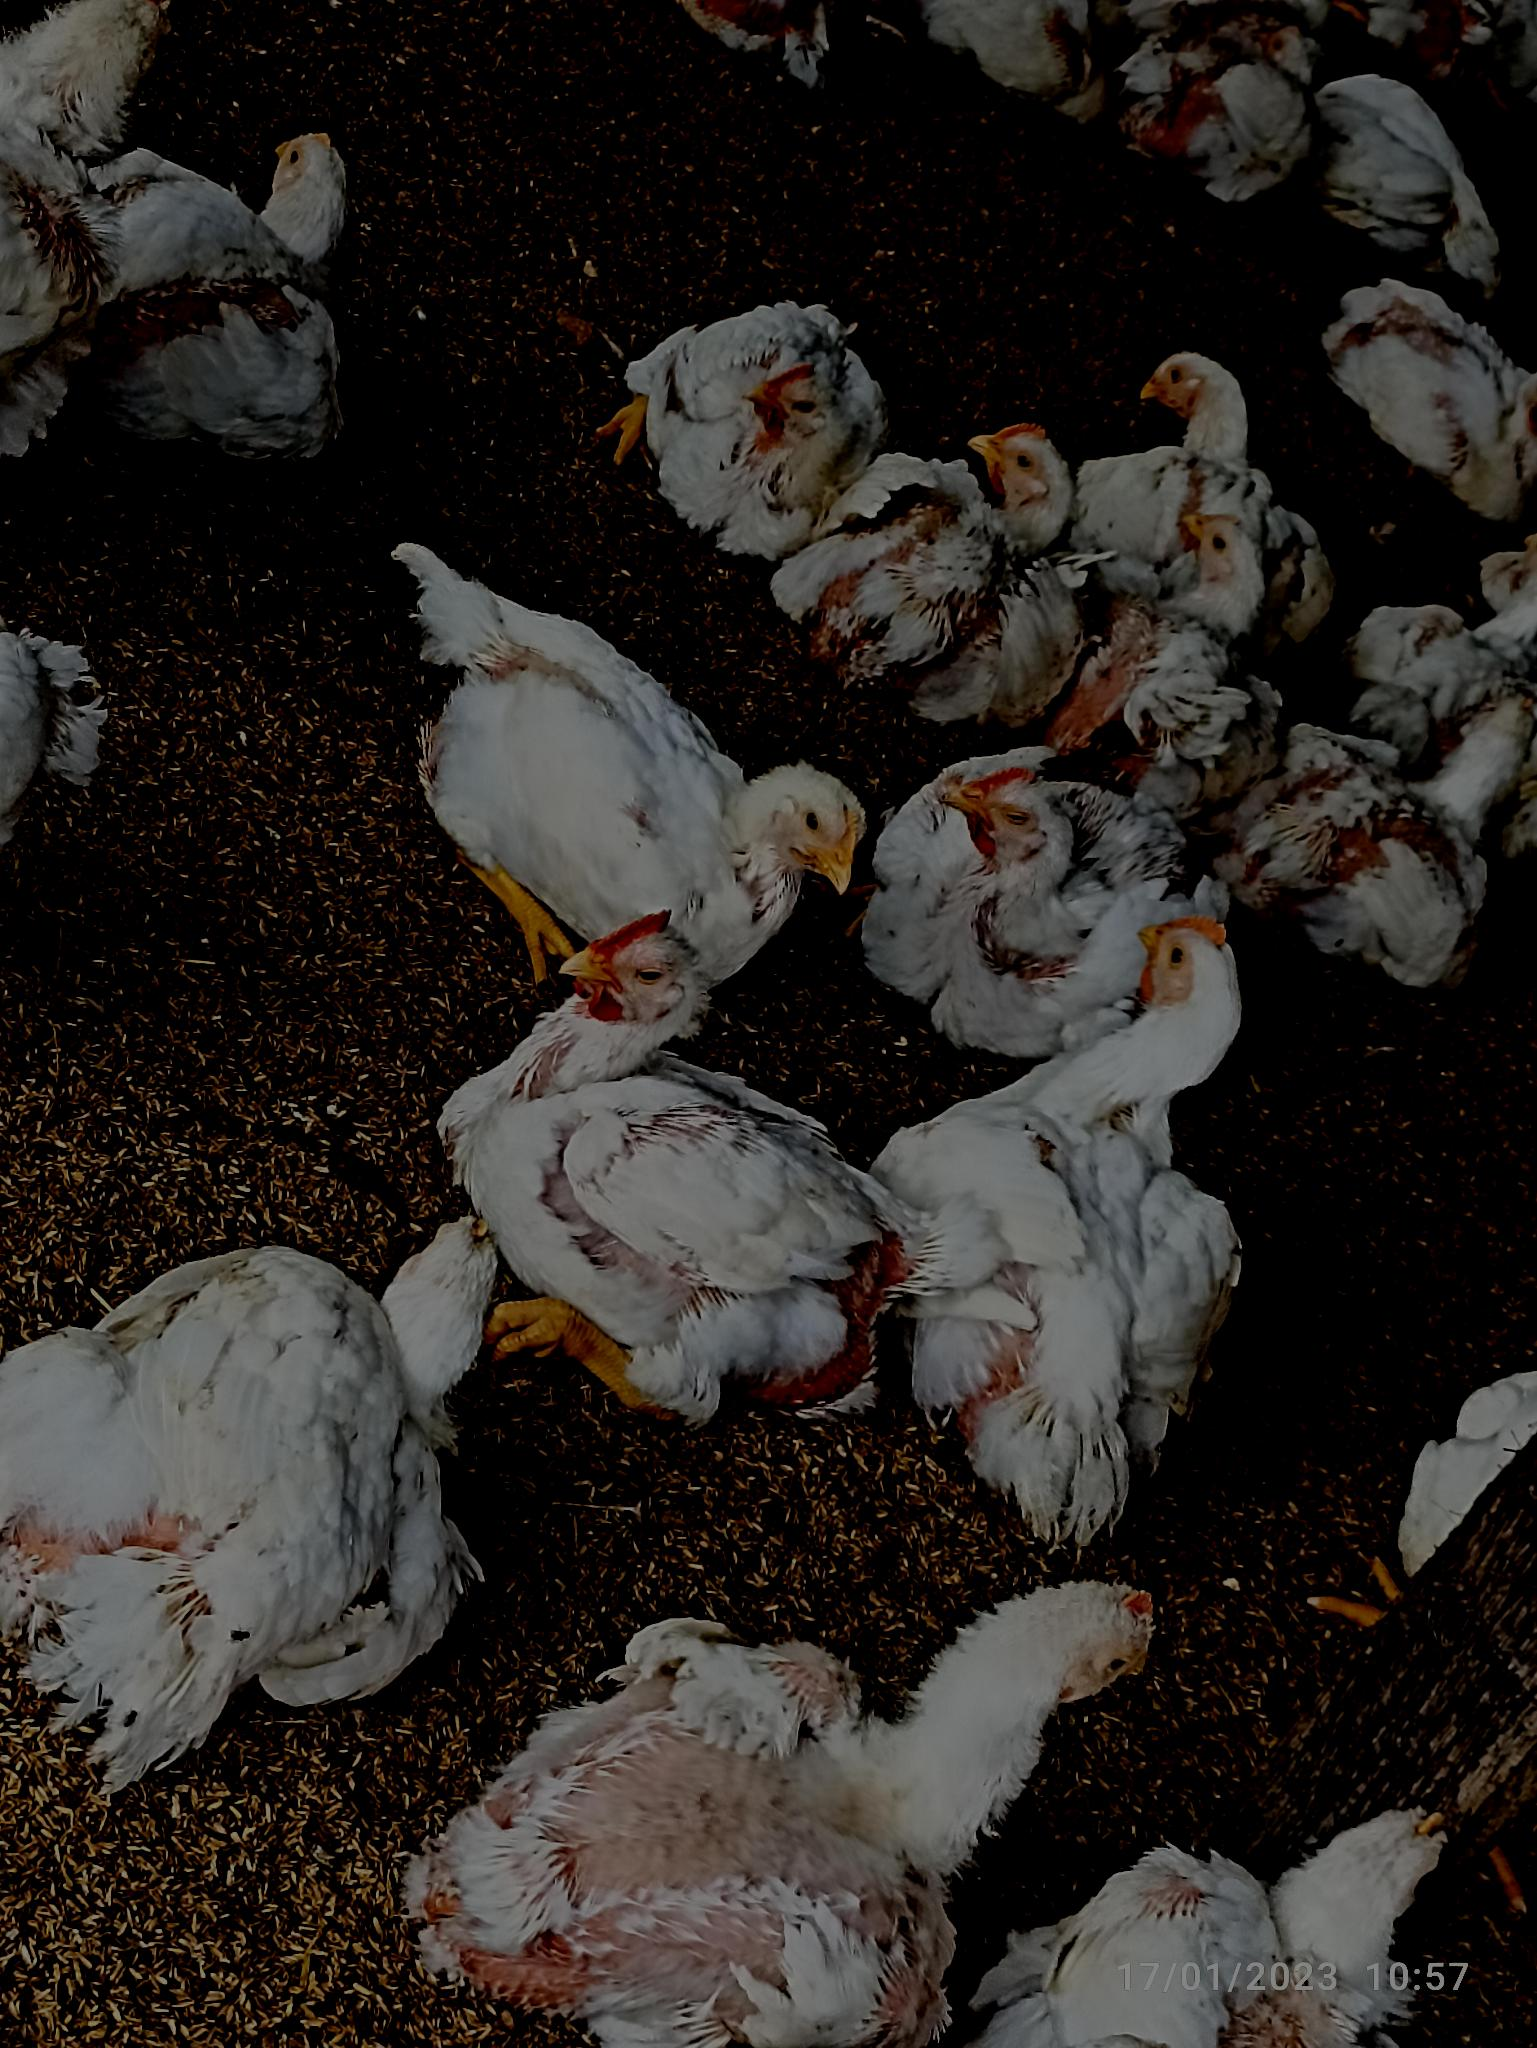Pollos: (434, 1582, 1153, 2032), (2, 1189, 505, 1761), (877, 928, 1246, 1530), (468, 915, 752, 1309), (497, 633, 852, 917), (1233, 691, 1537, 994), (82, 127, 350, 470), (833, 420, 1070, 688), (1246, 65, 1511, 302), (909, 763, 1150, 1022), (615, 292, 862, 523), (1077, 507, 1259, 788), (1120, 345, 1287, 499)
